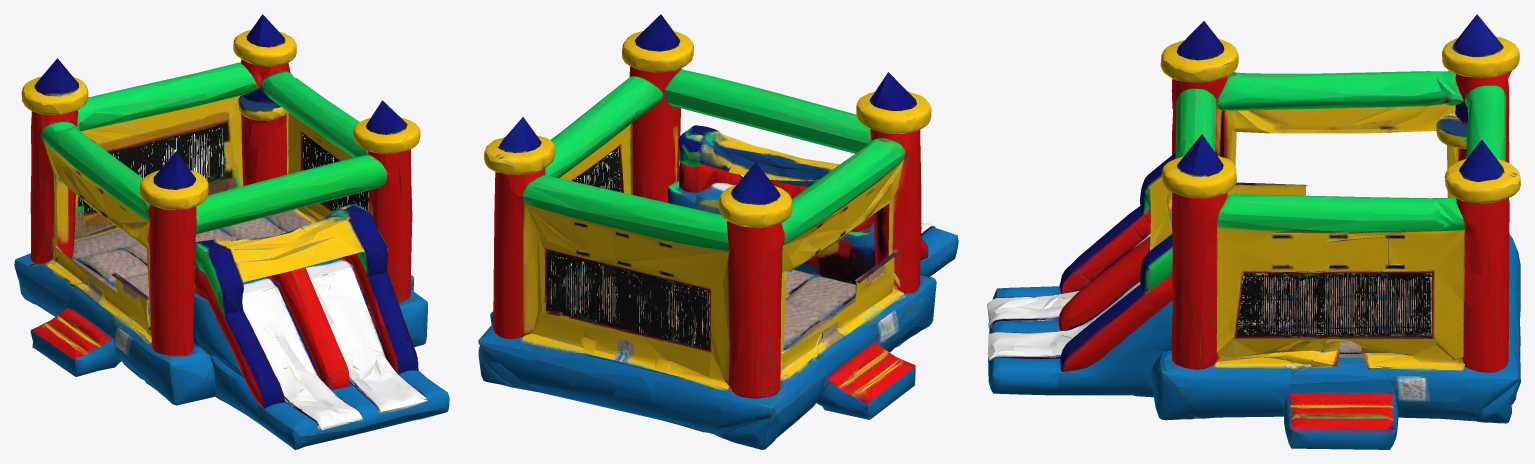
3 renders of one model, left to right at view 1: azimuth 30°, elevation 25°; view 2: azimuth 150°, elevation 25°; view 3: azimuth 270°, elevation 25°, orthographic. The views are drawn at different scales.
Size of the model in its own units: 1.62 by 1.11 by 1.9.
Materials: 1 (1 with a texture image).
